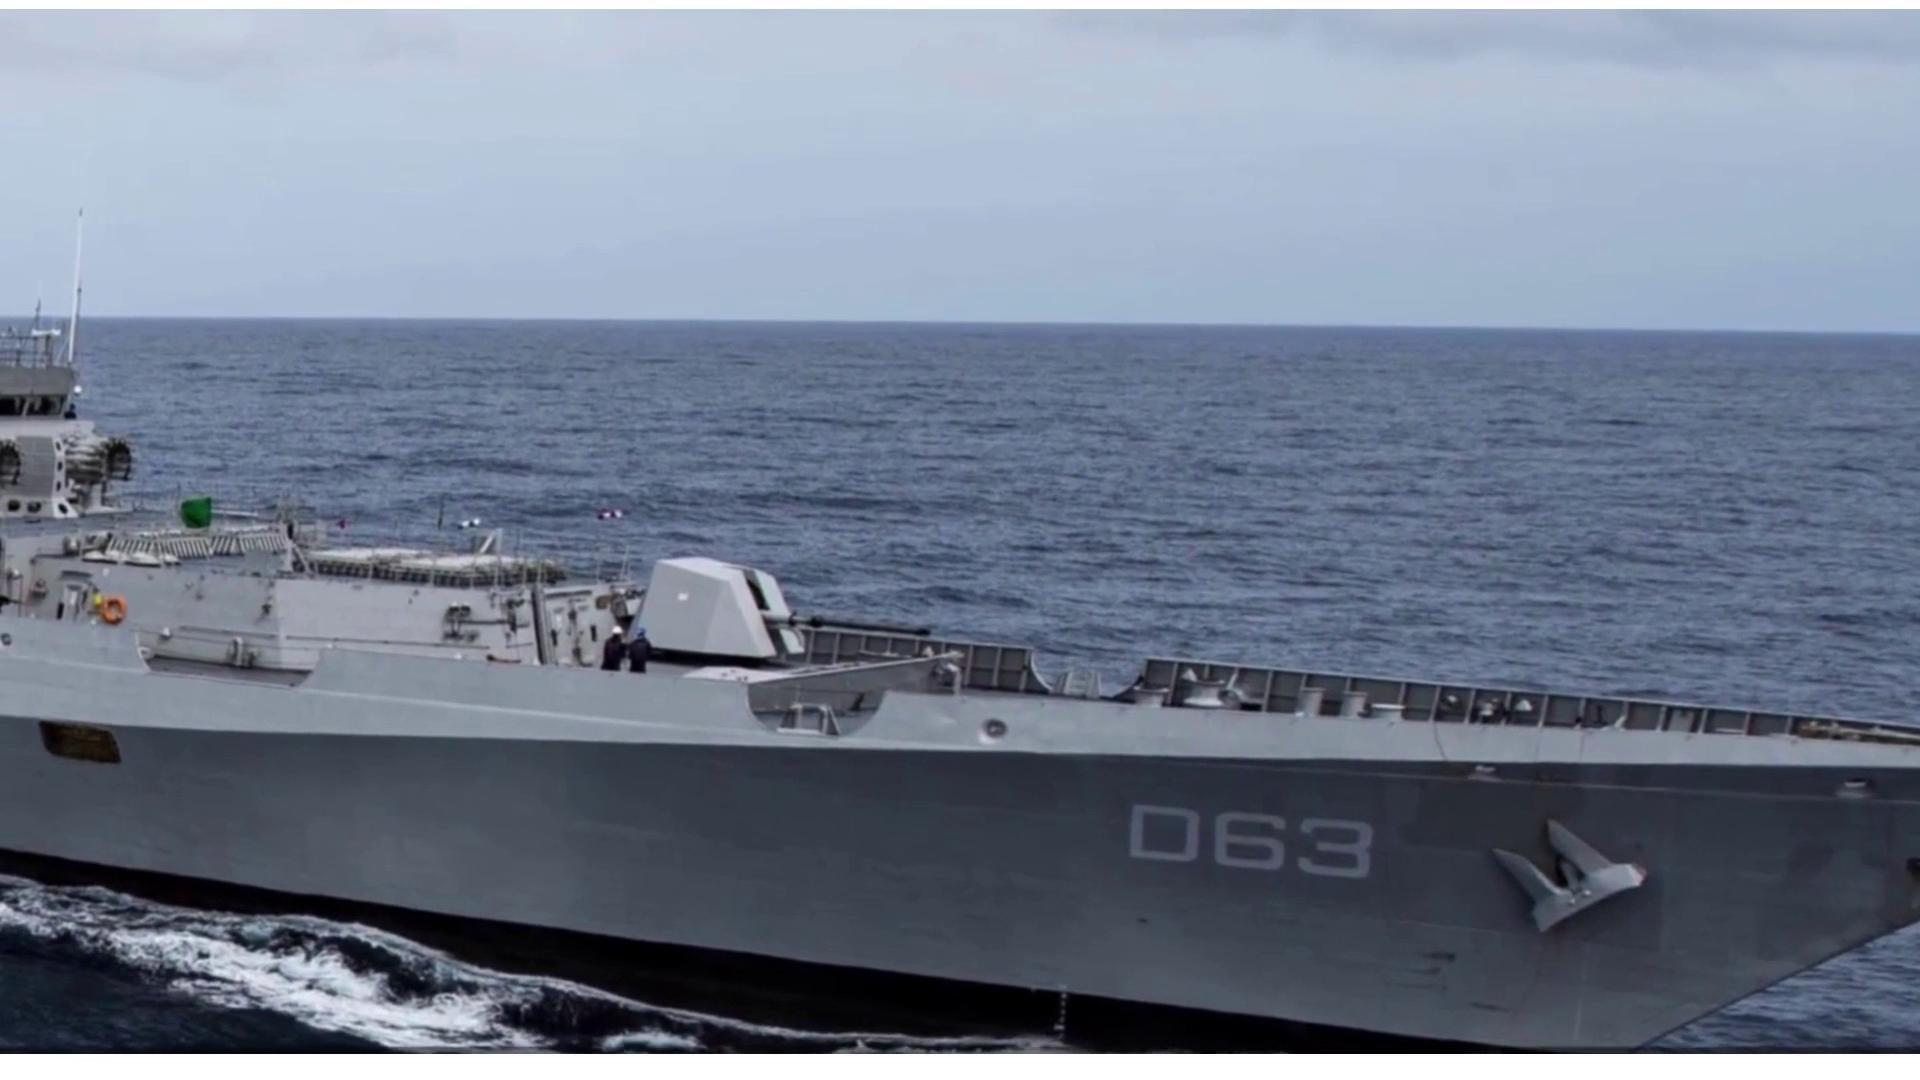OCR: (1109, 793, 1389, 894)
